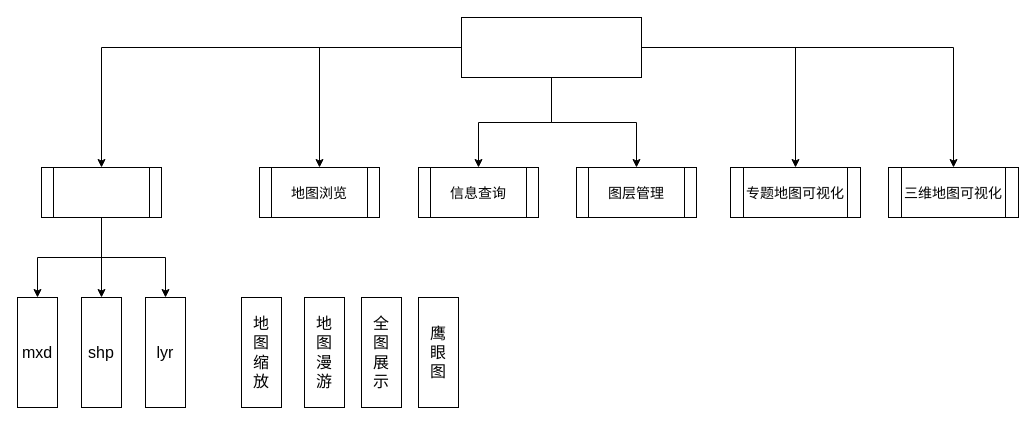
This 1036x425 diagram has some shape labels left out. Each missing label, with the centre of its shape:
数据管理: point (101, 192)
武汉大学校园导览系统: point (551, 47)
